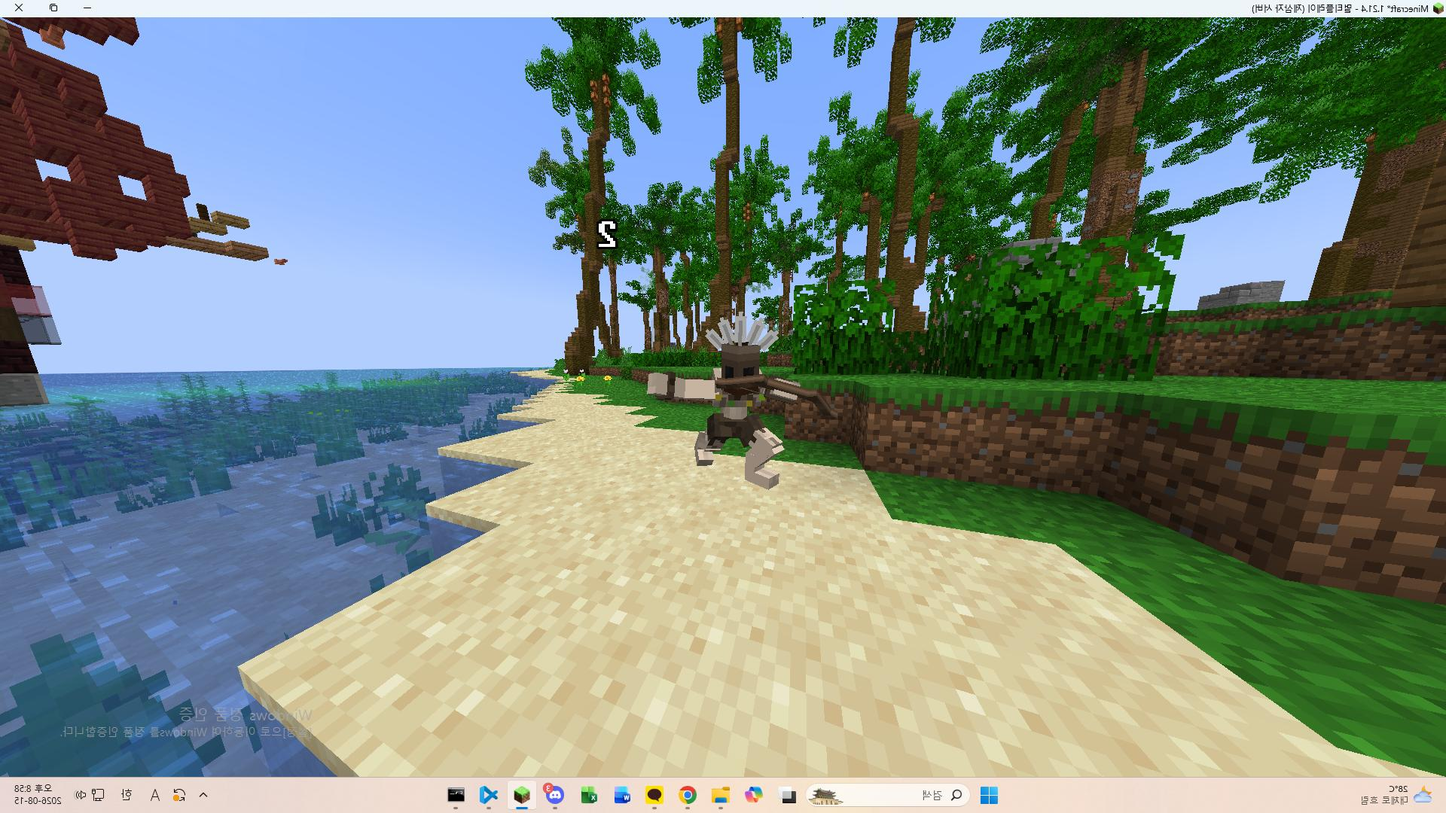bow_indian: (612, 313, 817, 510)
